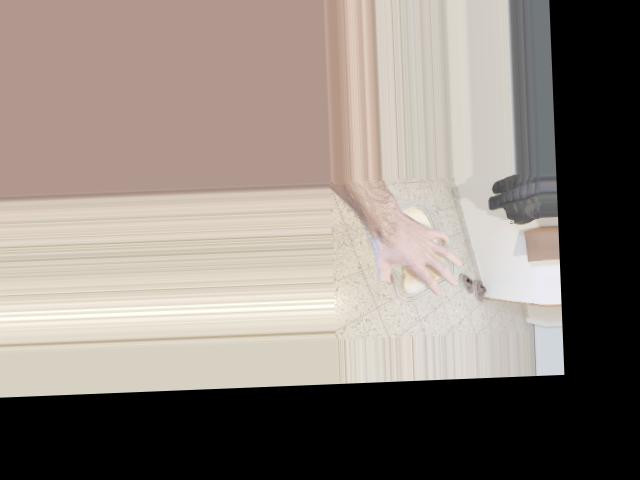cheese: (365, 202, 461, 299)
